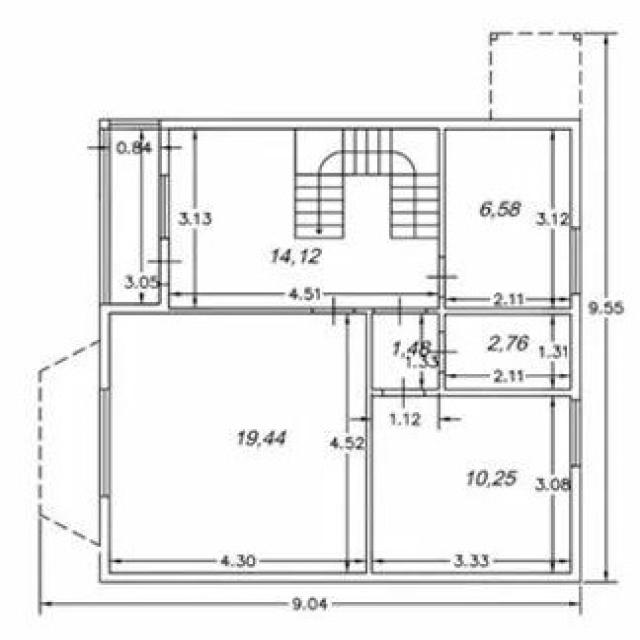Corridors: (447, 316, 569, 387), (111, 130, 157, 302), (375, 316, 437, 387)
Doors: (373, 294, 426, 327), (146, 238, 184, 283), (381, 376, 426, 409), (311, 295, 355, 328), (424, 256, 458, 298), (427, 331, 461, 372)
LBwalls: (99, 466, 582, 584), (159, 118, 582, 227), (98, 283, 169, 389), (570, 295, 580, 401), (99, 118, 110, 130)
Offices: (110, 315, 364, 572), (169, 132, 436, 306), (375, 399, 570, 572), (447, 130, 570, 306)
Stairs: (293, 130, 438, 241)
Walls: (354, 306, 382, 573), (426, 298, 570, 332), (425, 372, 571, 397), (170, 306, 311, 316), (438, 130, 446, 255)
Windows: (99, 128, 110, 303), (99, 389, 111, 497), (569, 227, 581, 294), (569, 400, 581, 467), (160, 175, 169, 239), (110, 118, 161, 129)
